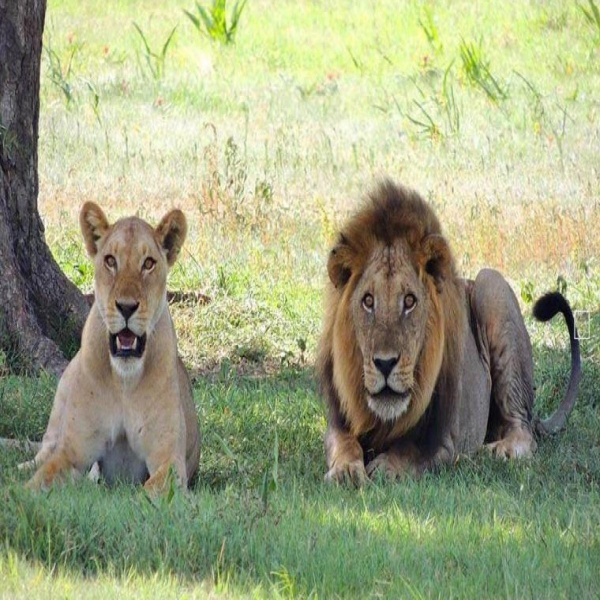Lion: (315, 174, 582, 492), (19, 194, 208, 504)
